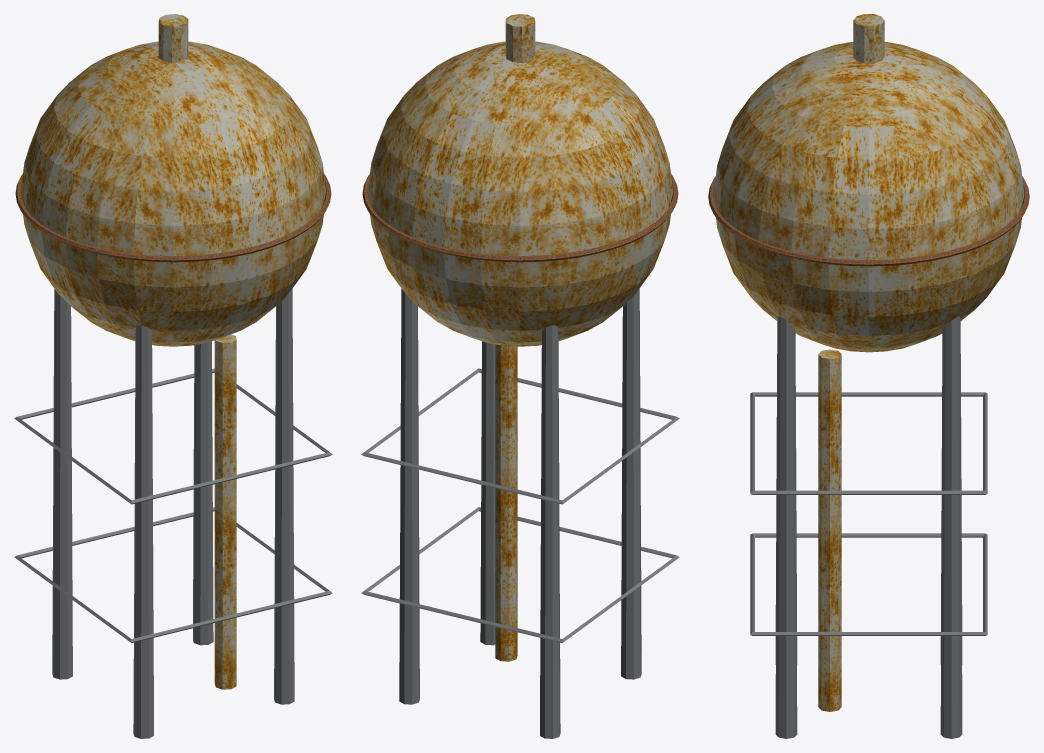
The model's file is mars_water_tower.glb.
The picture shows the model from 3 angles, left to right: view 1: azimuth 30°, elevation 25°; view 2: azimuth 150°, elevation 25°; view 3: azimuth 270°, elevation 25°; orthographic projection.
Parts seen in each view (by area): view 1: root_rust, root_darksteel, root_grate; view 2: root_rust, root_darksteel, root_grate; view 3: root_rust, root_darksteel, root_grate.
Part boxes in pixels (x1,y1,x2,y2): root_rust: [20, 14, 326, 689]; root_darksteel: [14, 289, 332, 738]; root_grate: [15, 174, 331, 262]; root_rust: [367, 14, 673, 661]; root_darksteel: [361, 289, 679, 738]; root_grate: [362, 174, 678, 262]; root_rust: [713, 14, 1024, 711]; root_darksteel: [750, 316, 987, 738]; root_grate: [708, 176, 1029, 266].
Bounding box in the file's own units: 8.26 × 19.25 × 8.26.
3 materials, 2 textured.
